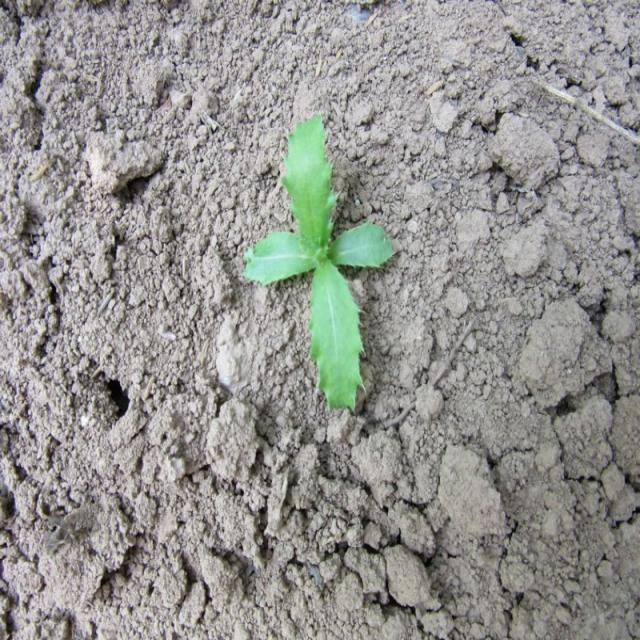cs: (242, 105, 401, 417)
